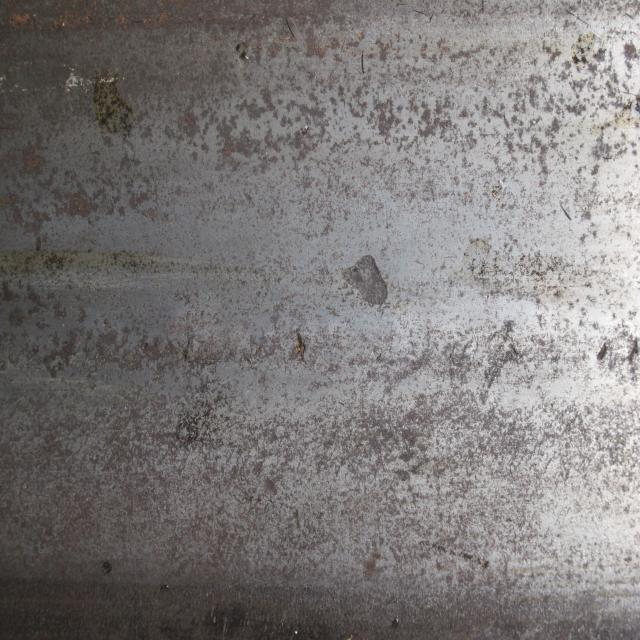Contact_Fatigue_Cracks: (142, 341, 206, 365)
Peeling: (294, 327, 312, 369)
